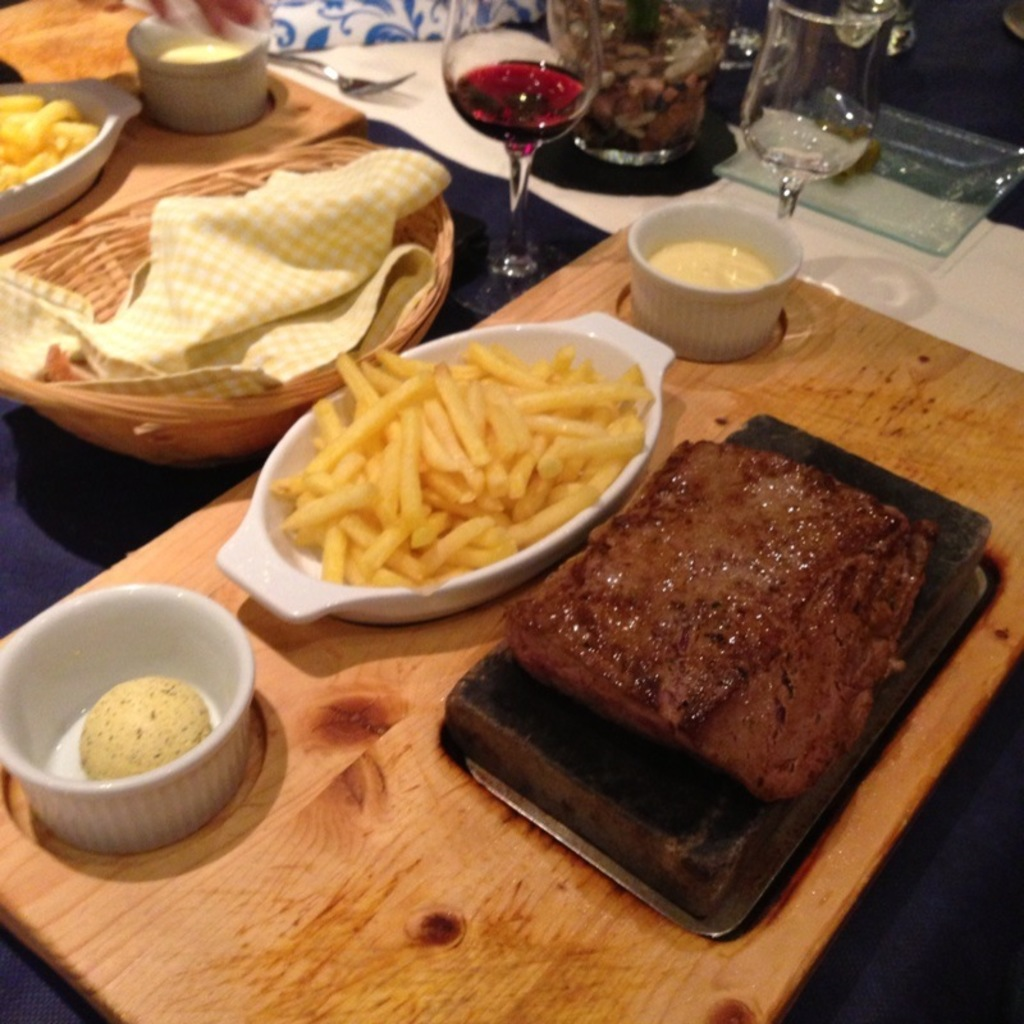French fries: (248, 321, 693, 628), (0, 96, 106, 195)
